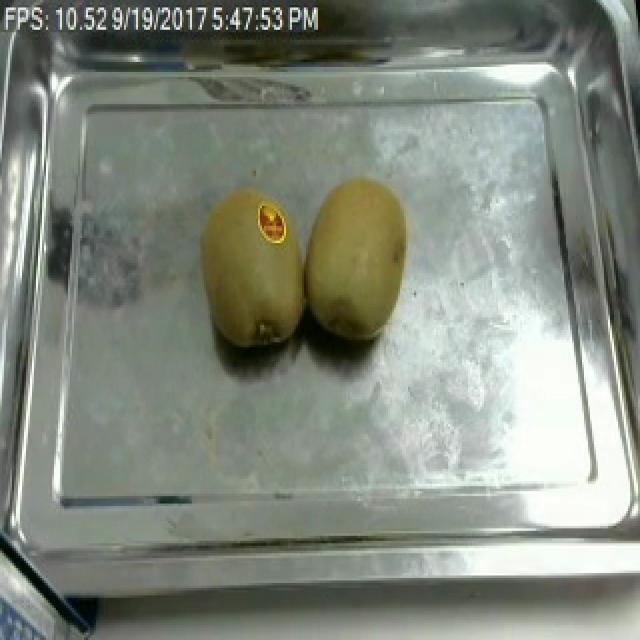Fruit: (300, 168, 424, 350), (190, 179, 306, 357)
